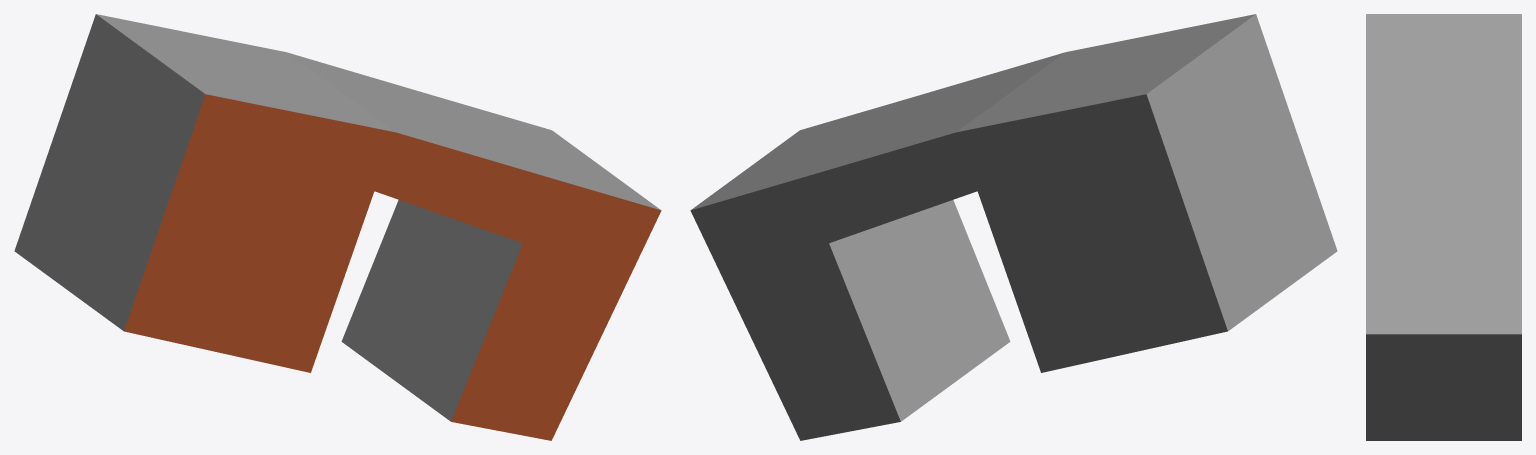
The model's file is construction_6957_assumed_A_Casa_h6m.obj.
3 views of the same model, side by side, from view 1: azimuth 30°, elevation 25°; view 2: azimuth 150°, elevation 25°; view 3: azimuth 270°, elevation 25° (orthographic). The views are drawn at different scales.
Visible parts, largest first — view 1: construction_6957_assumed_A_Casa; view 2: construction_6957_assumed_A_Casa; view 3: construction_6957_assumed_A_Casa.
Part boxes in pixels (bbox=[...]): construction_6957_assumed_A_Casa: bbox=[14, 14, 661, 440]; construction_6957_assumed_A_Casa: bbox=[690, 14, 1337, 440]; construction_6957_assumed_A_Casa: bbox=[1366, 14, 1521, 440].
Bounding box in the file's own units: 17 × 13.03 × 6.
